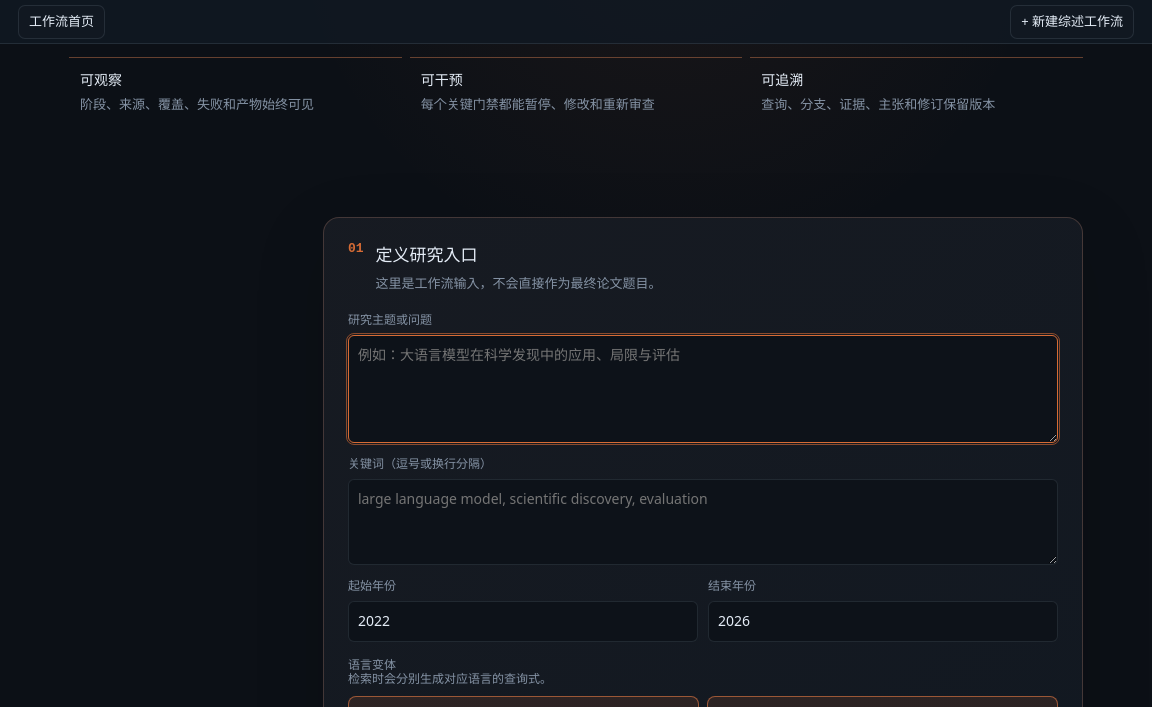
Test: Workflows › offers no rewind for a stage the run has not reached
In the text box with placeholder "例如：大语言模型在科学发现中的应用、局限与评估": x=703, y=389 [348,335,1058,443], type "大语言模型与时间序列综述"
(page scrolled)
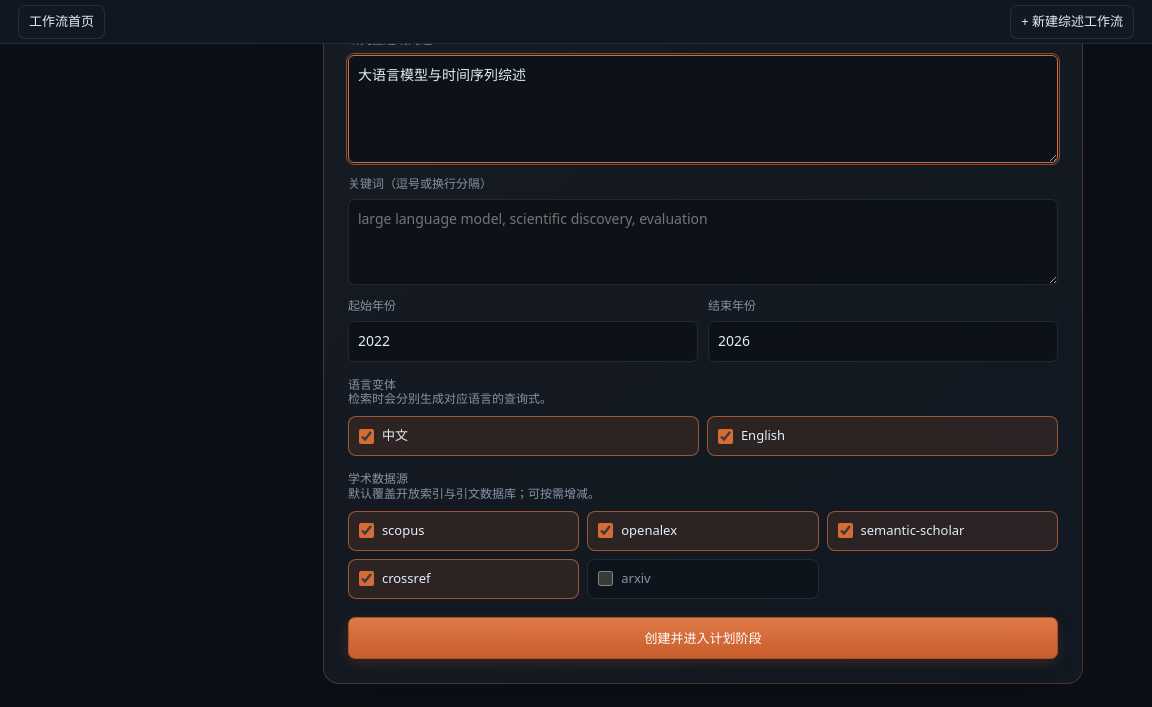
Click the button "创建并进入计划阶段": x=703, y=638 [348,617,1058,659]
(page scrolled)
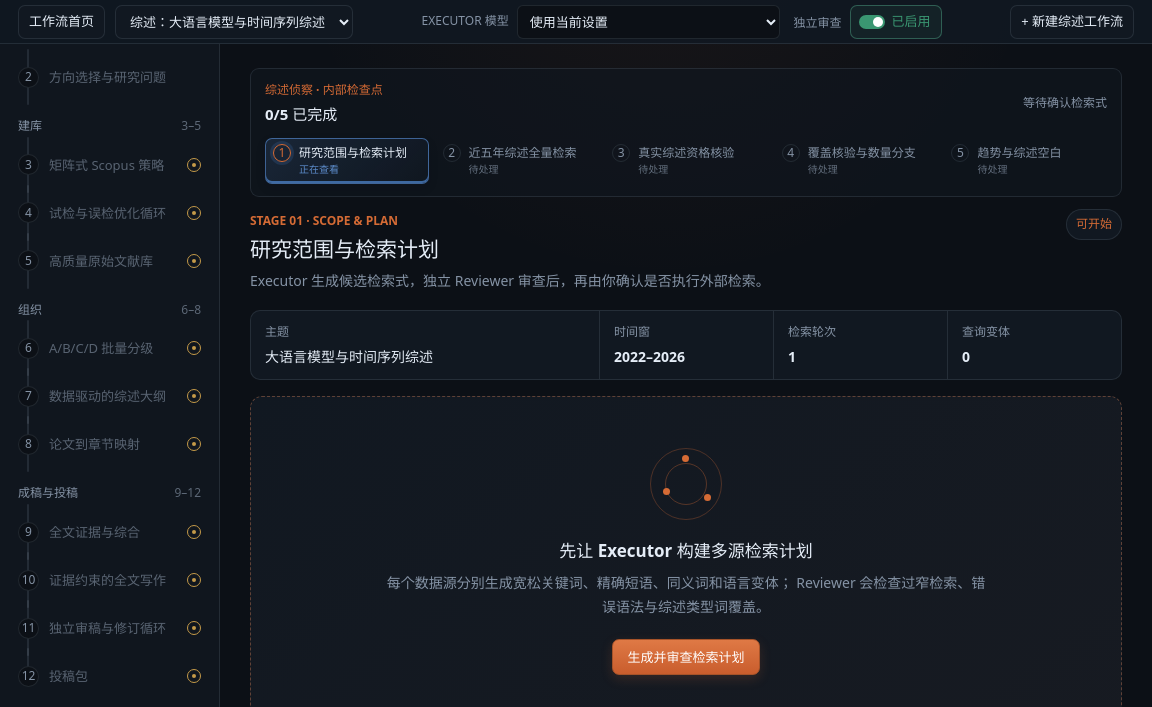
Check: the heading "研究范围与检索计划" is shown, box [250,235,439,263]
Click the button "8 论文到章节映射": x=110, y=444 [9,420,210,468]
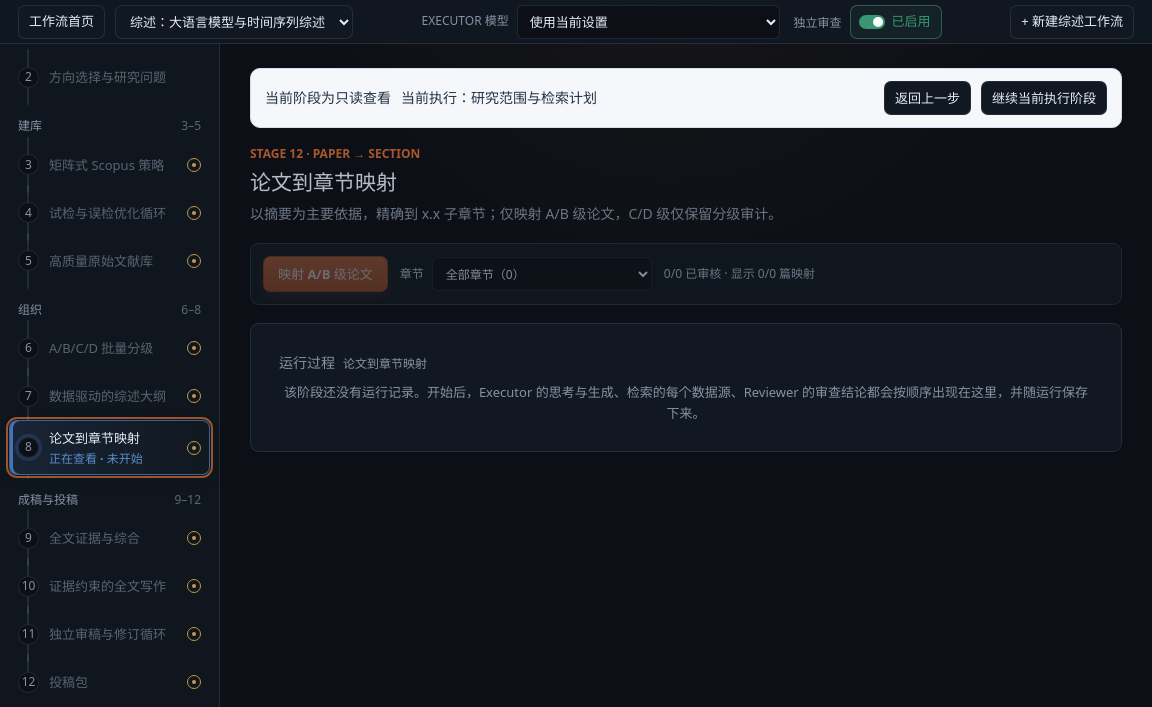
Check: the text "当前阶段为只读查看" is shown, box [265,87,391,109]
